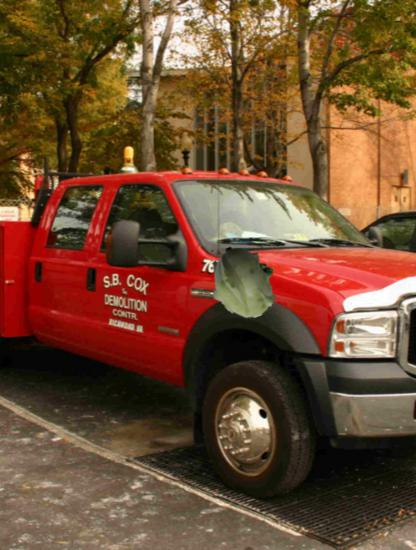Kohlrabi: (206, 245, 281, 320)
